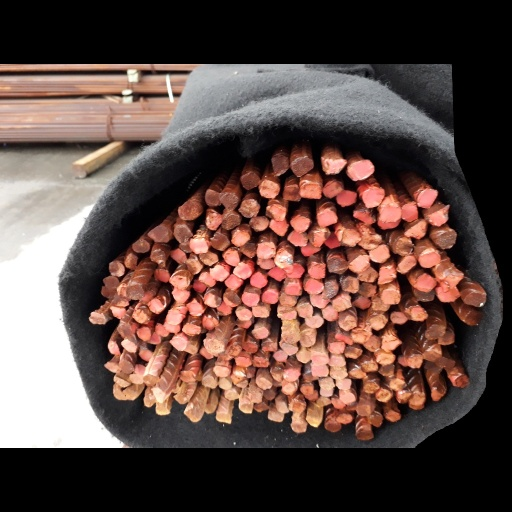dipstick: (347, 159, 374, 182), (429, 228, 457, 250), (319, 154, 346, 176), (360, 187, 385, 209), (426, 205, 451, 226), (291, 155, 313, 177), (418, 247, 441, 268), (414, 189, 438, 209), (298, 181, 323, 200), (435, 284, 460, 303), (404, 218, 426, 239), (172, 221, 194, 242), (353, 204, 376, 224), (271, 153, 290, 177), (462, 288, 486, 307), (238, 198, 260, 218), (308, 228, 330, 248), (350, 323, 372, 343), (422, 342, 444, 362), (368, 244, 391, 263), (281, 321, 300, 344), (203, 207, 221, 231), (358, 233, 383, 250), (147, 225, 172, 242), (259, 179, 280, 199), (220, 211, 241, 231), (273, 247, 293, 268), (321, 180, 344, 198), (316, 208, 339, 226), (439, 274, 463, 291), (412, 287, 436, 304), (202, 338, 226, 355), (306, 259, 326, 279), (340, 228, 361, 247), (289, 214, 310, 233), (209, 231, 230, 250), (370, 294, 391, 313), (381, 330, 400, 351), (263, 204, 286, 221), (393, 236, 413, 255), (416, 273, 436, 292), (281, 183, 301, 202), (217, 192, 237, 211), (283, 277, 303, 296), (341, 276, 361, 295), (348, 254, 368, 273), (379, 203, 400, 221), (463, 309, 484, 327), (326, 257, 348, 274), (379, 287, 401, 304), (405, 305, 428, 321), (204, 188, 223, 207), (336, 189, 356, 207), (396, 256, 416, 274), (377, 265, 397, 283), (269, 219, 289, 237), (222, 246, 240, 266), (232, 261, 252, 279), (203, 287, 221, 307), (185, 298, 205, 316), (248, 216, 269, 233), (256, 242, 277, 259), (322, 278, 339, 299), (424, 325, 447, 340), (277, 340, 300, 355), (401, 202, 419, 221), (240, 172, 259, 190), (438, 328, 456, 347), (223, 273, 243, 290), (367, 314, 387, 331), (299, 327, 316, 347), (188, 237, 209, 253), (402, 353, 423, 369), (183, 407, 204, 423), (373, 349, 395, 364), (276, 305, 298, 320), (231, 229, 250, 246), (126, 284, 145, 301), (304, 278, 323, 295), (339, 314, 358, 331), (408, 392, 427, 409), (130, 364, 147, 383), (308, 294, 331, 308), (178, 204, 198, 220), (209, 265, 229, 281), (354, 402, 374, 418), (115, 322, 135, 338), (300, 242, 321, 257), (169, 274, 190, 289), (357, 267, 378, 282), (351, 295, 372, 310), (450, 373, 471, 388), (265, 407, 286, 422), (197, 252, 219, 266), (249, 271, 267, 288), (364, 334, 381, 352), (431, 384, 448, 402), (273, 396, 290, 414), (286, 231, 305, 247), (285, 263, 304, 279), (267, 266, 286, 282), (357, 282, 376, 298), (260, 288, 279, 304), (278, 291, 297, 307), (383, 407, 402, 423), (329, 395, 348, 411), (125, 384, 144, 400), (387, 376, 407, 391), (329, 365, 349, 380), (347, 366, 368, 380), (179, 369, 200, 383), (149, 249, 166, 266), (367, 411, 384, 428), (133, 307, 150, 324), (239, 242, 257, 258), (108, 260, 126, 276), (137, 345, 155, 361), (181, 323, 203, 336), (123, 252, 138, 271), (360, 358, 379, 373), (375, 388, 394, 403), (338, 391, 357, 406), (345, 344, 364, 359), (334, 328, 353, 343), (287, 397, 306, 412), (163, 318, 182, 333), (309, 362, 329, 376), (304, 314, 324, 328), (269, 363, 283, 383), (260, 338, 280, 352), (377, 216, 400, 228), (434, 356, 455, 369), (198, 271, 215, 287), (223, 290, 240, 306), (321, 306, 338, 322), (150, 386, 167, 402), (147, 297, 163, 314), (132, 238, 150, 253), (170, 249, 188, 264), (389, 310, 407, 325), (251, 325, 269, 340), (201, 315, 219, 330), (166, 309, 184, 324), (153, 322, 171, 337), (113, 372, 131, 387), (323, 418, 342, 432), (310, 350, 329, 364), (255, 375, 274, 389), (88, 311, 107, 325), (119, 338, 138, 352), (117, 360, 136, 374), (250, 305, 270, 318), (143, 387, 156, 407), (154, 267, 170, 283), (296, 302, 312, 318), (169, 335, 185, 351), (305, 414, 322, 429), (280, 380, 297, 395), (297, 348, 312, 365), (235, 305, 252, 320), (155, 401, 172, 416), (141, 373, 158, 388), (197, 346, 214, 361), (135, 326, 152, 341), (254, 258, 277, 269), (241, 292, 259, 306), (379, 364, 397, 378), (282, 366, 300, 380), (247, 388, 265, 402), (241, 340, 259, 354), (172, 288, 190, 302), (102, 274, 120, 288), (356, 428, 375, 441), (211, 364, 230, 377), (186, 259, 202, 274), (216, 301, 232, 316), (395, 390, 412, 404), (335, 377, 352, 391), (318, 376, 335, 390), (252, 355, 269, 369), (235, 353, 252, 367), (173, 389, 190, 403), (336, 411, 354, 424), (328, 341, 346, 354), (328, 354, 347, 366), (238, 400, 254, 414), (215, 410, 231, 424), (138, 290, 154, 304), (362, 380, 379, 393), (297, 382, 314, 395), (112, 383, 125, 400), (109, 305, 124, 319), (106, 341, 121, 355), (178, 240, 194, 253), (217, 377, 233, 390), (200, 375, 216, 388), (271, 350, 288, 362), (233, 317, 250, 329), (191, 279, 205, 293), (304, 390, 319, 403), (262, 387, 277, 400), (226, 344, 241, 357), (230, 371, 245, 384), (253, 401, 269, 413), (100, 287, 117, 298), (147, 331, 160, 345), (202, 402, 217, 414), (102, 361, 120, 371), (318, 387, 335, 397), (290, 422, 307, 432), (223, 387, 235, 401), (315, 396, 331, 406)
